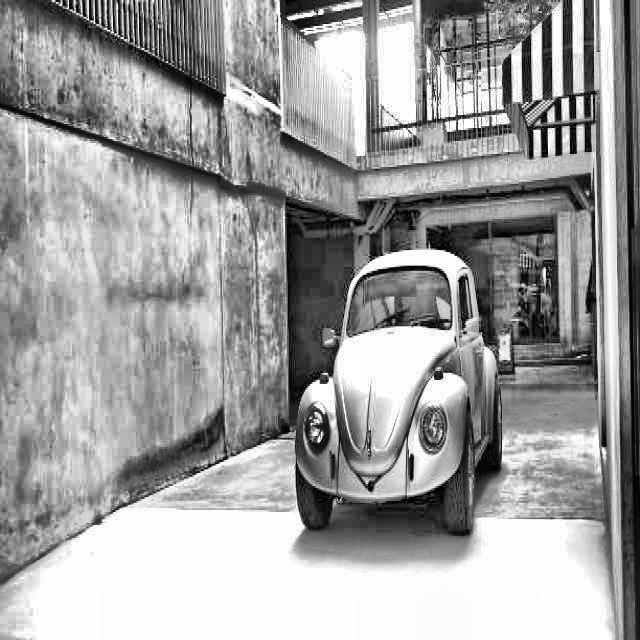carro: (294, 251, 504, 543)
